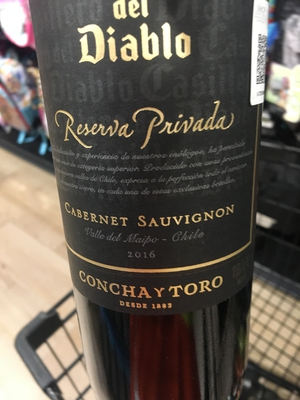casillero del diablo reserva privada cabernet sauvignon: (30, 2, 272, 400)
